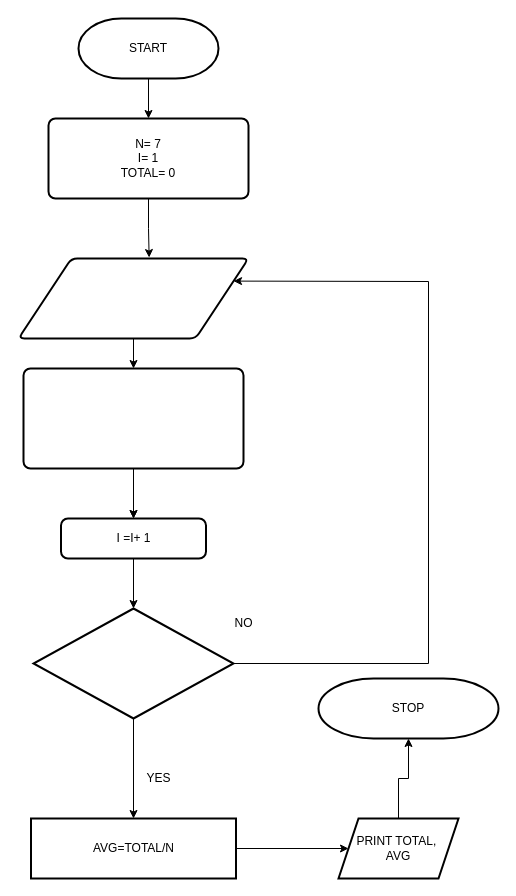
Some shapes in this 516 by 896 pixel diagram are drawn without their labels. Each missing label, with the box of its shape:
INPUT MARK: (17, 257, 249, 339)
IS I>N ?: (32, 607, 234, 719)
TOTAL=TOTAL +MARK: (22, 367, 244, 469)
